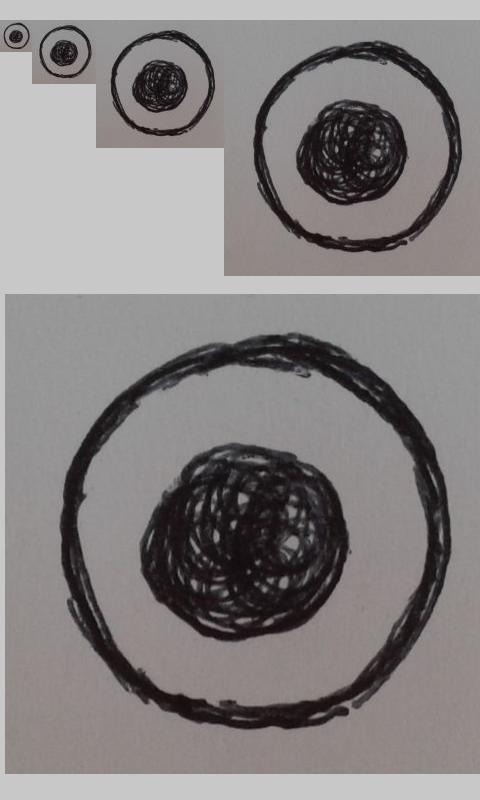radio_button: (57, 330, 455, 730), (252, 40, 462, 253), (110, 30, 215, 136), (39, 24, 93, 79), (3, 22, 30, 49)
